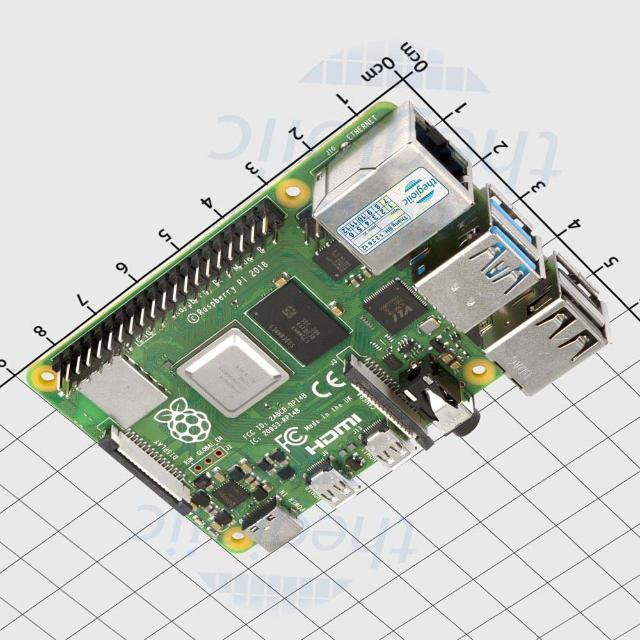Raspberry-Pi-4-B: (29, 103, 609, 552)
